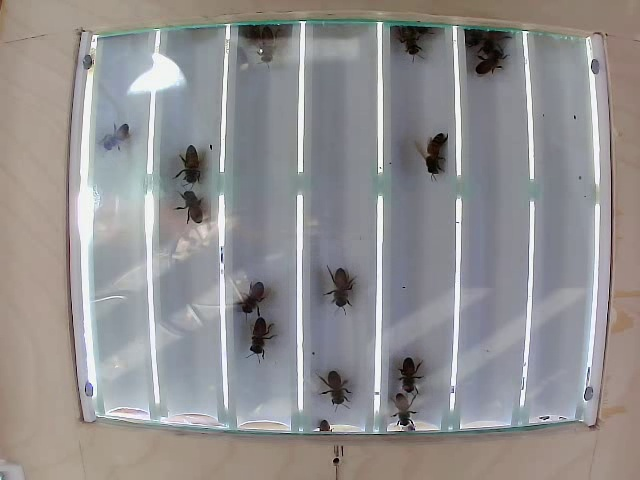bee: (321, 260, 363, 321), (232, 311, 280, 362), (423, 128, 458, 187), (393, 353, 428, 401), (177, 142, 210, 192), (237, 273, 272, 319), (327, 367, 361, 410), (389, 391, 424, 430), (179, 187, 211, 227), (98, 123, 134, 154), (393, 26, 422, 63), (477, 51, 502, 77)
